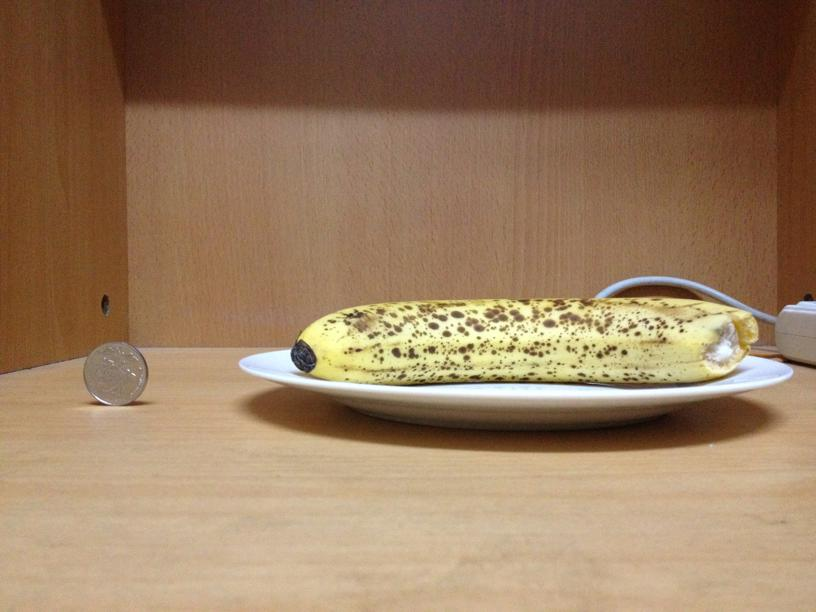banana: (280, 297, 750, 388)
coin: (83, 340, 146, 408)
